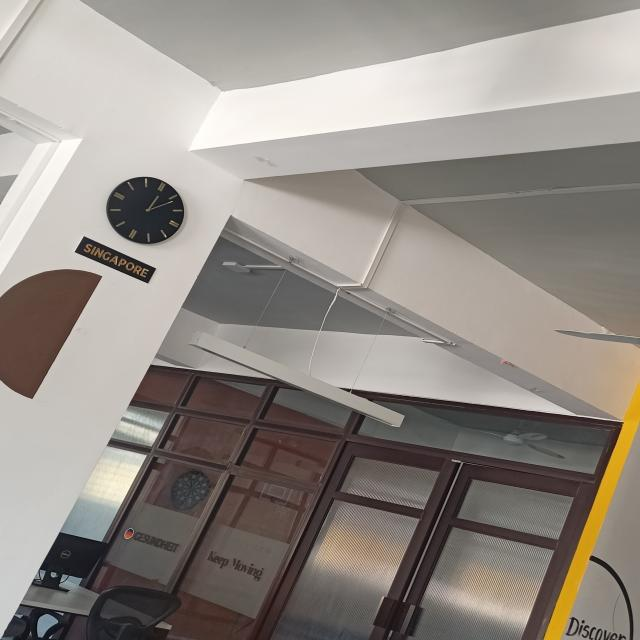light_off: (188, 326, 413, 432)
